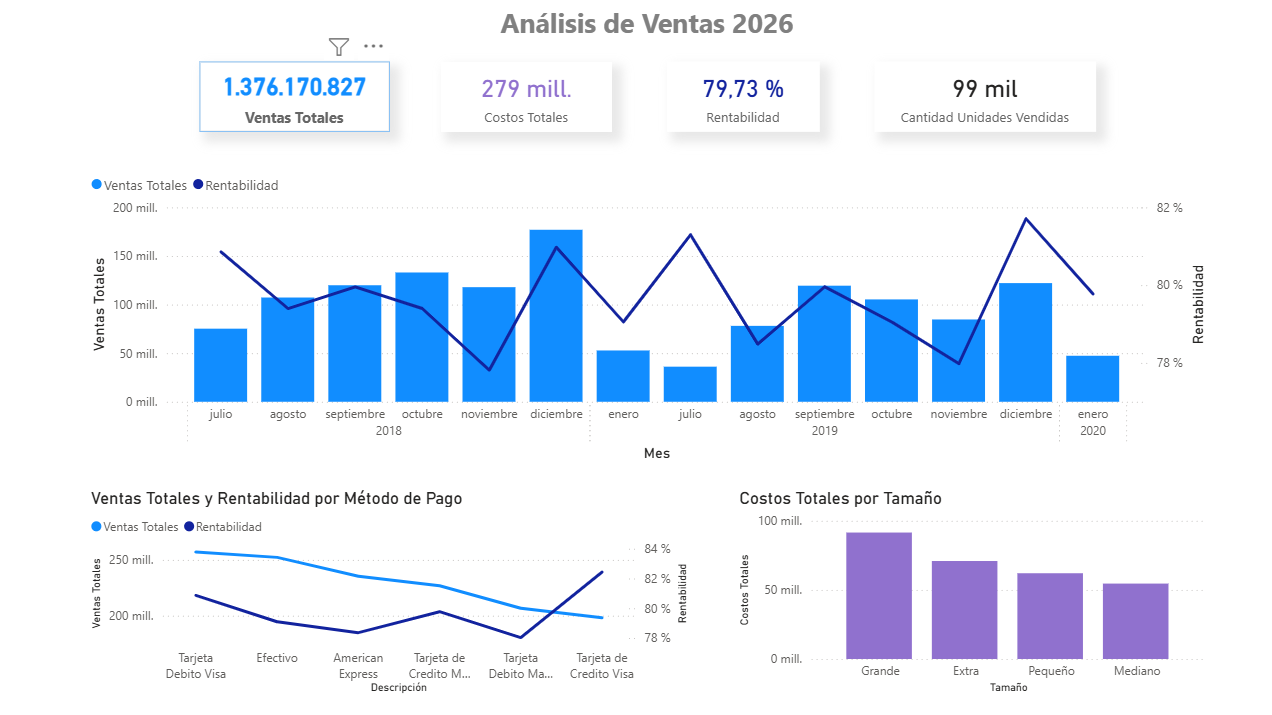

What the dashboard file says about the page in this screenshot:
{"tool":"powerbi","page":{"name":"Overview","canvas":[1280,720],"ordinal":0},"visuals":[{"type":"card","fields":{"Values":["Medidas.Ventas Totales"]},"box":[202.5,62.5,190,70],"z":0},{"type":"card","fields":{"Values":["Medidas.Costos Totales"]},"box":[443.8,62.5,171.2,70],"z":1000},{"type":"card","fields":{"Values":["Medidas.Rentabilidad"]},"box":[670,62.5,152.5,70],"z":2000},{"type":"card","fields":{"Values":["Medidas.Cant Unidades Vendidas"]},"box":[877.5,62.5,221.2,70],"z":3000},{"type":"lineChart","title":"Ventas Totales y Rentabilidad por Método de Pago","fields":{"Y":["Medidas.Ventas Totales"],"Y2":["Medidas.Rentabilidad"],"Category":["Metodos de Pago.Descripción"]},"box":[88.8,489.1,608.8,211.2],"z":4000},{"type":"columnChart","fields":{"Y":["Medidas.Costos Totales"],"Category":["Producto.Tamaño "]},"box":[737.5,489.1,476.2,211.2],"z":5000},{"type":"lineClusteredColumnComboChart","fields":{"Category":["Calendario.Fecha.Variación.Jerarquía de fechas.Año","Calendario.Fecha.Variación.Jerarquía de fechas.Mes"],"Y":["Medidas.Ventas Totales"],"Y2":["Medidas.Rentabilidad"]},"box":[88.8,165,1125,302.5],"z":6000},{"type":"textbox","box":[443.8,0,412.5,53.8],"z":7000}]}

Visuals, with their boxes in screenshot pixels (x1, y1, x2, y2), scaled from the page's 1280x720 canvas onto the 1272x715 screenshot:
card - Medidas.Ventas Totales: pyautogui.locateOnScreen(201, 62, 390, 132)
card - Medidas.Costos Totales: pyautogui.locateOnScreen(441, 62, 611, 132)
card - Medidas.Rentabilidad: pyautogui.locateOnScreen(666, 62, 817, 132)
card - Medidas.Cant Unidades Vendidas: pyautogui.locateOnScreen(872, 62, 1092, 132)
"Ventas Totales y Rentabilidad por Método de Pago" lineChart: pyautogui.locateOnScreen(88, 486, 693, 695)
columnChart - Medidas.Costos Totales x Producto.Tamaño : pyautogui.locateOnScreen(733, 486, 1206, 695)
lineClusteredColumnComboChart - Calendario.Fecha.Variación.Jerarquía de fechas.Año x Calendario.Fecha.Variación.Jerarquía de fechas.Mes: pyautogui.locateOnScreen(88, 164, 1206, 464)
textbox: pyautogui.locateOnScreen(441, 0, 851, 53)
